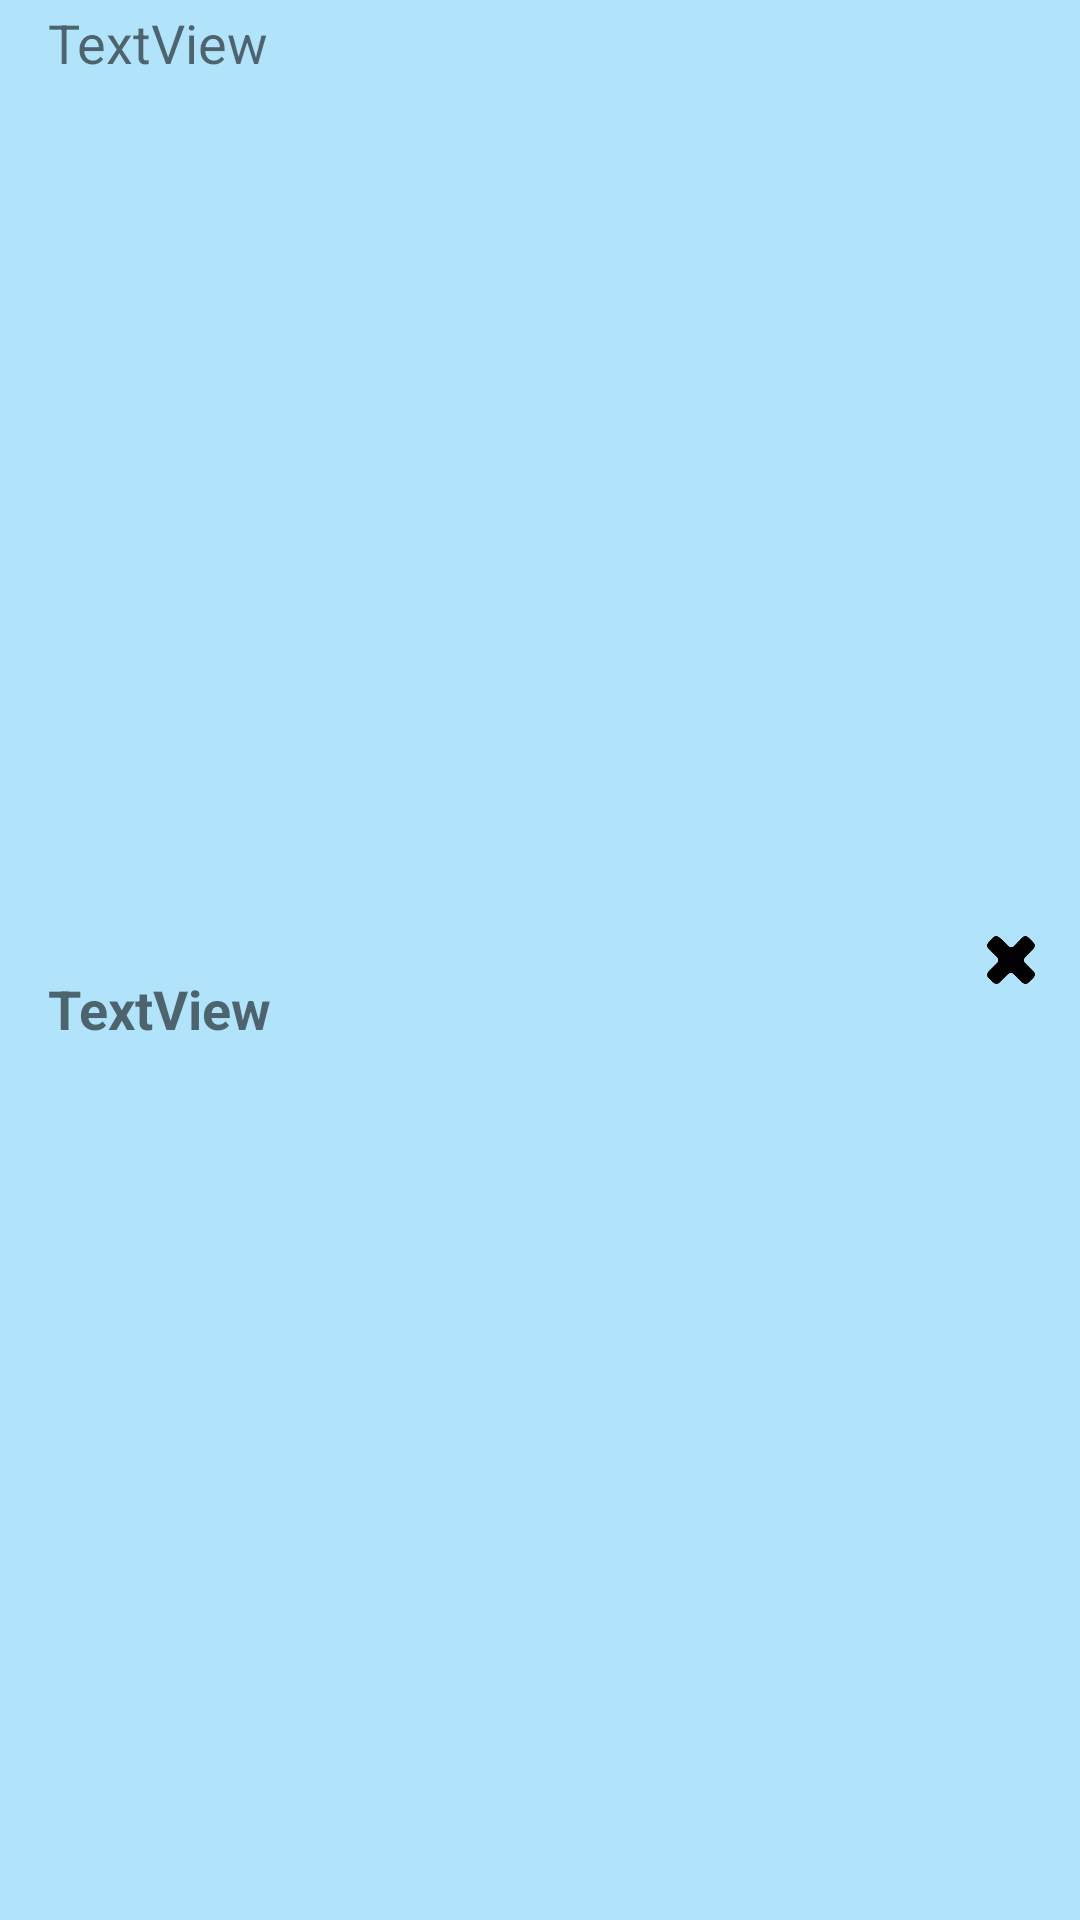

Screen size 1080*1920. Icon name, then its box in pixels as (x1, y1, x2, y2):
cross: (987, 936, 1035, 984)
